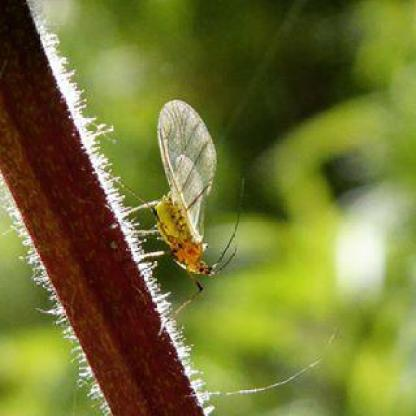aphid: (129, 93, 244, 313)
